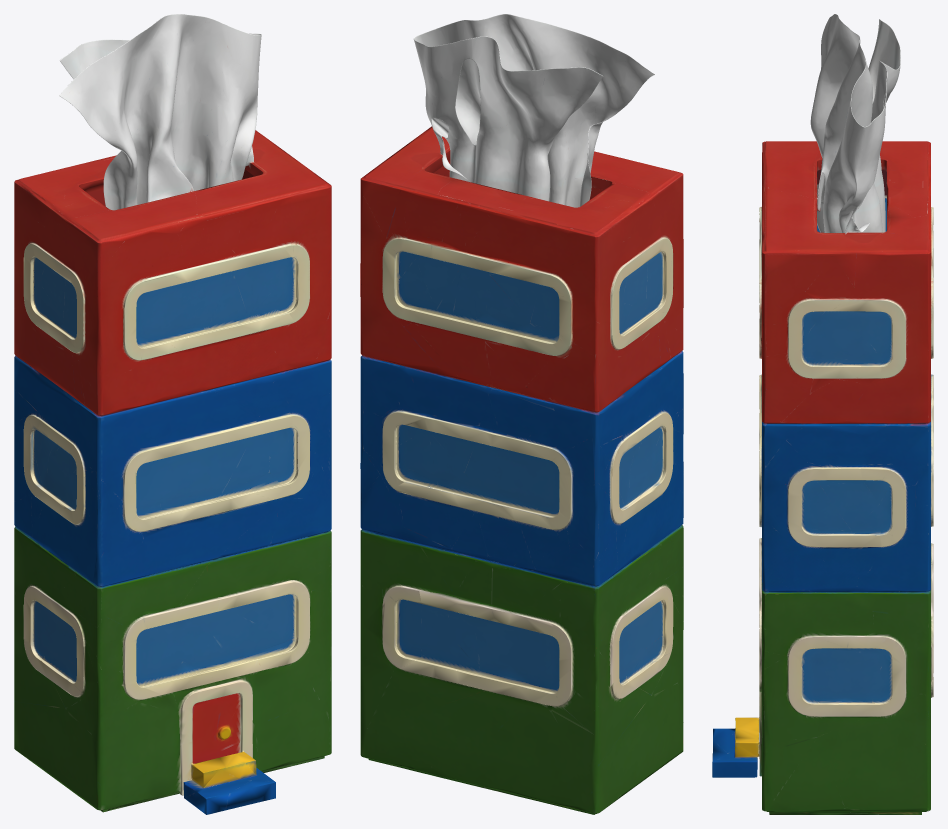
The model's file is meshy.glb.
3 views of the same model, side by side, from view 1: azimuth 30°, elevation 25°; view 2: azimuth 150°, elevation 25°; view 3: azimuth 270°, elevation 25° (orthographic). The views are drawn at different scales.
Size of the model in its own units: 0.6526 by 1.9 by 0.5264.
1 material, 1 textured.
